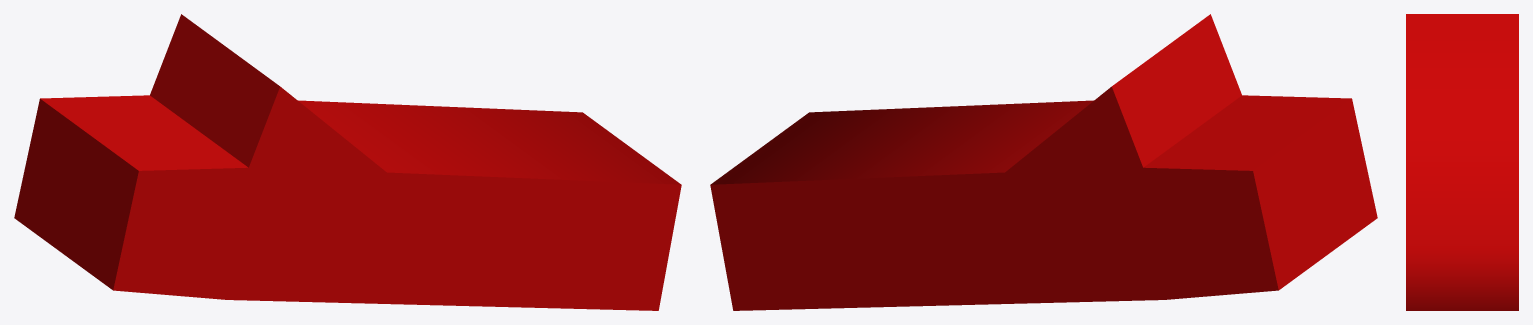
File: right_gripper_4_collision.dae
The picture shows the model from 3 angles, left to right: view 1: azimuth 30°, elevation 25°; view 2: azimuth 150°, elevation 25°; view 3: azimuth 270°, elevation 25°; orthographic projection. The views are drawn at different scales.
Visible parts, largest first — view 1: right_gripper_4_collision; view 2: right_gripper_4_collision; view 3: right_gripper_4_collision.
Boxes of the visible parts, left/top/right/bottom form: right_gripper_4_collision: left=14, top=14, right=681, bottom=310; right_gripper_4_collision: left=710, top=14, right=1377, bottom=310; right_gripper_4_collision: left=1406, top=14, right=1518, bottom=310.
Size of the model in its own units: 0.0506 by 0.027 by 0.0153.
